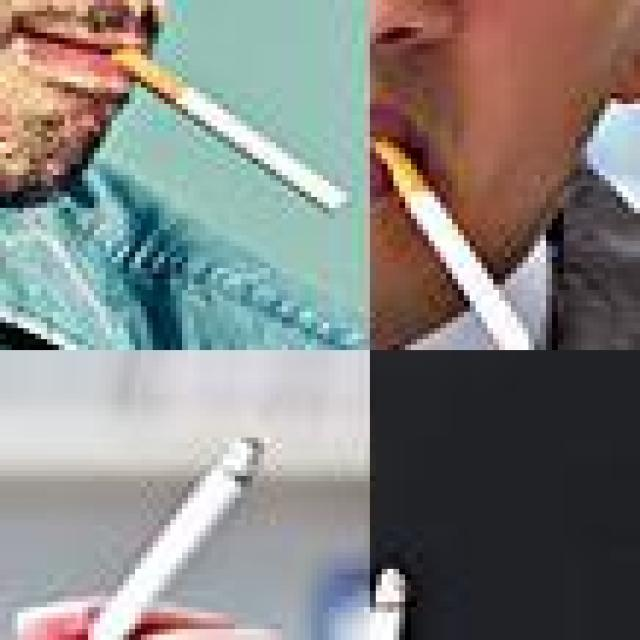smoking: (41, 426, 270, 634), (108, 38, 350, 214), (370, 120, 558, 345), (370, 552, 405, 634)
